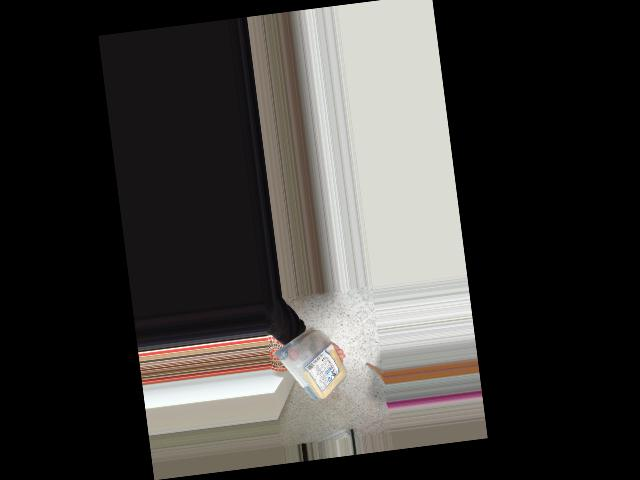cheese: (277, 324, 350, 408)
